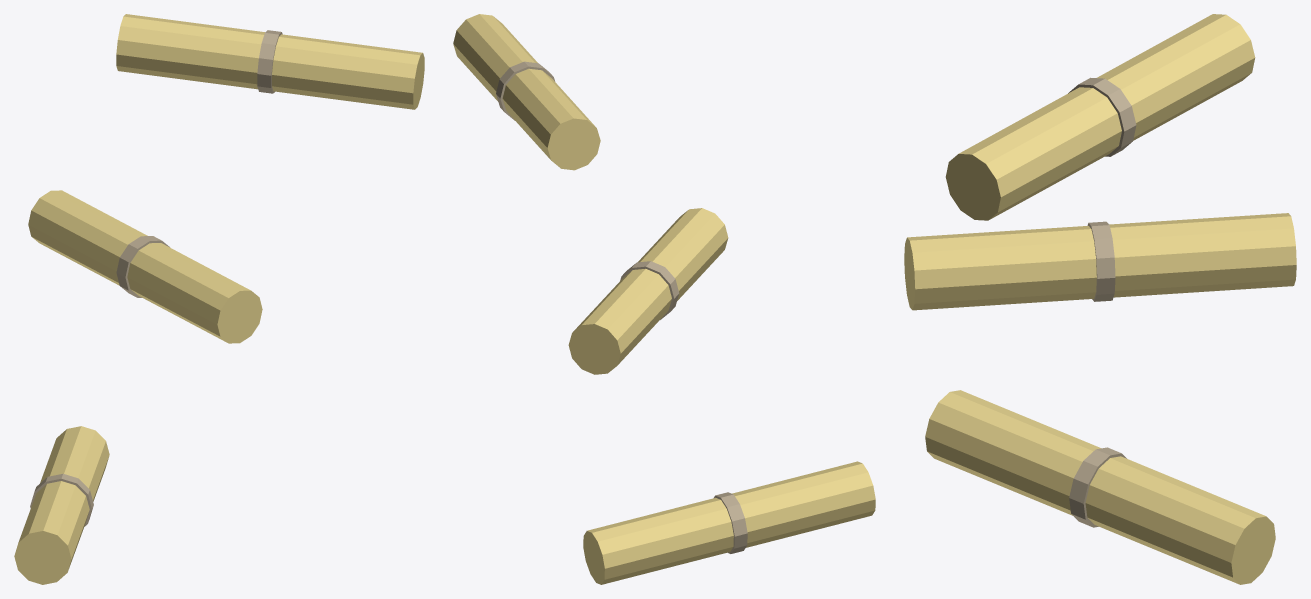
File: prop_rifle_casings.glb
The picture shows the model from 3 angles, left to right: view 1: azimuth 30°, elevation 25°; view 2: azimuth 150°, elevation 25°; view 3: azimuth 270°, elevation 25°; orthographic projection. The views are drawn at different scales.
Visible parts, largest first — view 1: Prop_RifleCasings; view 2: Prop_RifleCasings; view 3: Prop_RifleCasings.
Boxes of the visible parts, x1=… form: Prop_RifleCasings: x1=14, y1=14, x2=424, y2=584; Prop_RifleCasings: x1=453, y1=14, x2=875, y2=584; Prop_RifleCasings: x1=904, y1=14, x2=1296, y2=584.
Size of the model in its own units: 0.1014 by 0.1061 by 0.0641.
